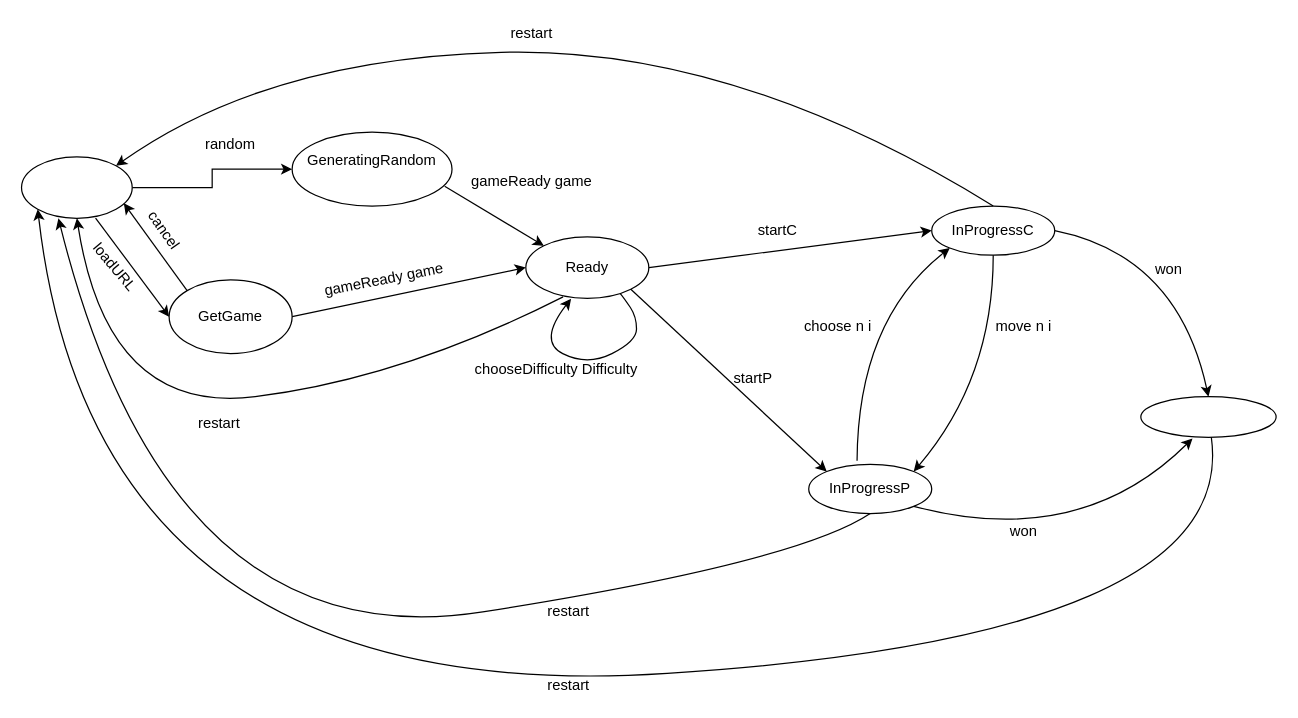
The diagram is 1298 pixels wide and 718 high, and some of its shapes have lost their labels. The shapes that lost their labels are listed below. From the top down, each one's centre as x and y in pixels, then its label:
point 76,187: Init
point 1208,416: Finish
